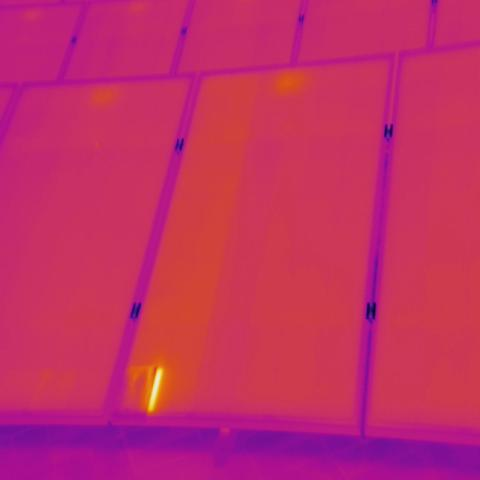fault: (122, 362, 162, 416)
